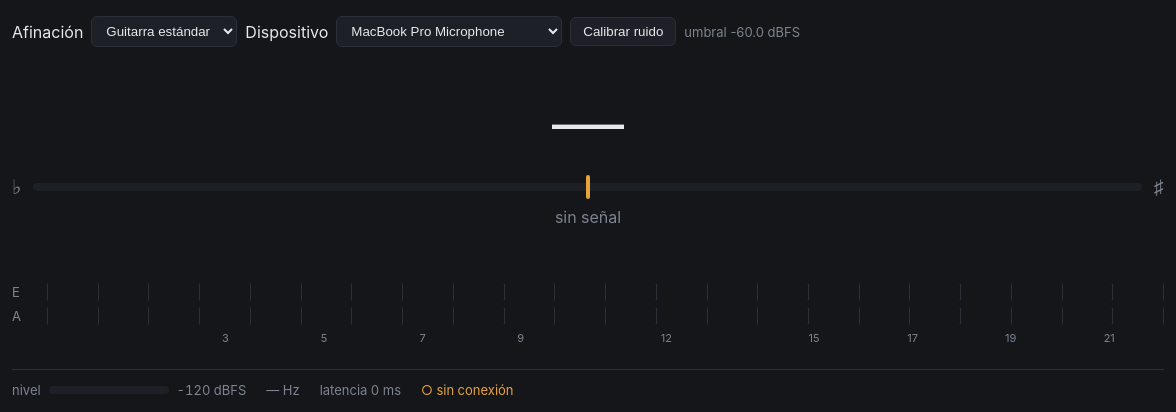
it: Afinador - calibración › muestra el error si la calibración falla y no cambia el umbral
This screenshot has width=1176, height=412.
Expected: the text "umbral -60.0 dBFS" is shown, [684,24,800,40]
Click the button "Calibrar ruido". click: {"x": 623, "y": 32}
box: [570,17,676,46]
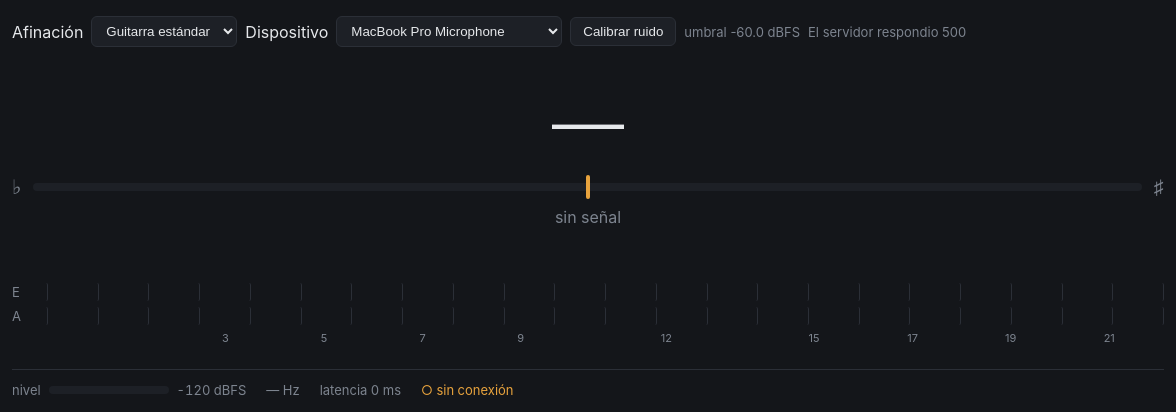
Expected: the text "umbral -60.0 dBFS" is shown, [684,24,800,40]
Expected: the text "El servidor respondio 500" is shown, [808,24,966,40]
